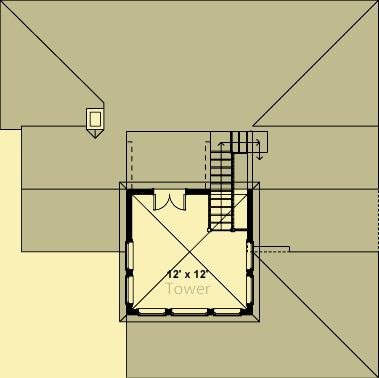door: (151, 189, 186, 212)
stairs: (208, 148, 233, 231), (230, 128, 271, 158)
window: (123, 240, 137, 308), (246, 241, 255, 304), (171, 307, 210, 316), (213, 307, 242, 319), (133, 307, 167, 317)
